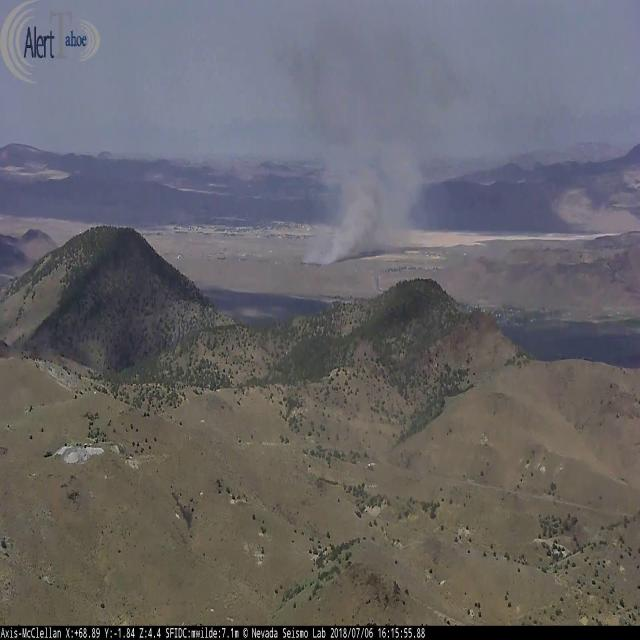smoke: (291, 22, 476, 271)
